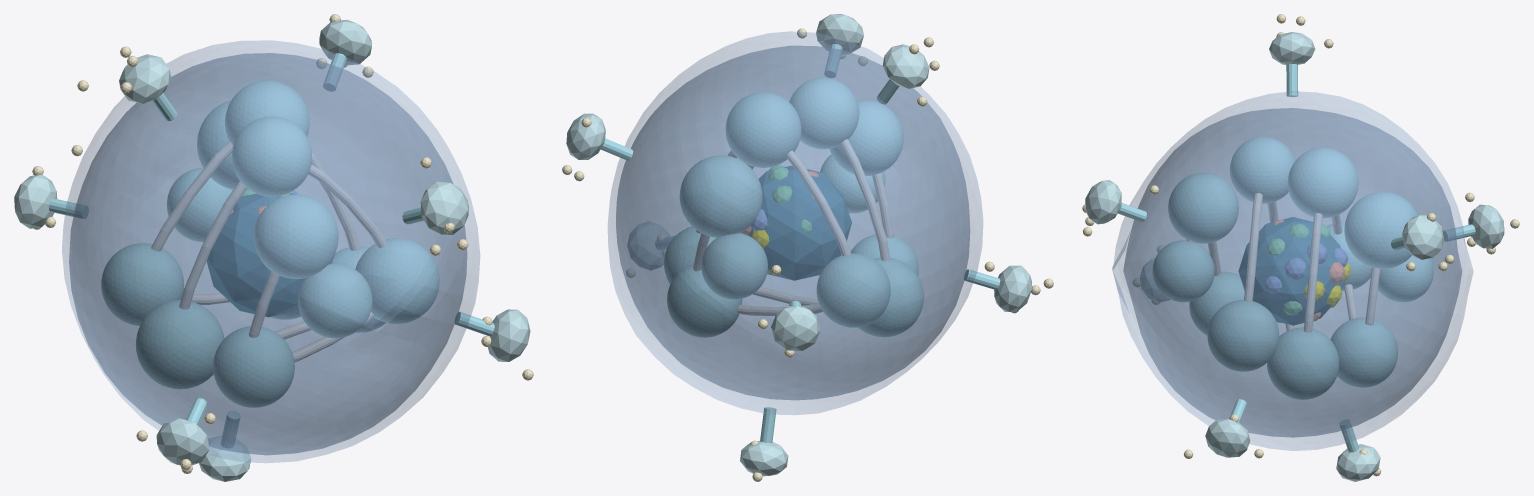
Rendered from virus_virus_ficticio_b_8280297.glb.
3 views of the same model, side by side, from view 1: azimuth 30°, elevation 25°; view 2: azimuth 150°, elevation 25°; view 3: azimuth 270°, elevation 25° (orthographic). The views are drawn at different scales.
Parts seen in each view (by area): view 1: geometry_0, geometry_1, geometry_137, geometry_2, geometry_133, geometry_135, geometry_134, geometry_136, geometry_140, geometry_132, geometry_139, geometry_143 (+9 smaller); view 2: geometry_0, geometry_1, geometry_2, geometry_142, geometry_139, geometry_140, geometry_136, geometry_143, geometry_141, geometry_133, geometry_137, geometry_203 (+9 smaller); view 3: geometry_0, geometry_1, geometry_2, geometry_135, geometry_142, geometry_138, geometry_133, geometry_139, geometry_141, geometry_136, geometry_132, geometry_143 (+9 smaller).
Part boxes in pixels (x1,y1,x2,y2): geometry_0: [62, 40, 479, 462]; geometry_1: [69, 53, 467, 455]; geometry_137: [136, 300, 224, 389]; geometry_2: [206, 193, 334, 317]; geometry_133: [254, 194, 338, 278]; geometry_135: [355, 238, 439, 323]; geometry_134: [213, 326, 294, 407]; geometry_136: [232, 116, 311, 196]; geometry_140: [101, 243, 183, 325]; geometry_132: [298, 263, 372, 338]; geometry_139: [225, 80, 309, 145]; geometry_143: [166, 167, 232, 241]; geometry_0: [608, 31, 983, 414]; geometry_1: [616, 45, 970, 400]; geometry_2: [748, 165, 851, 280]; geometry_142: [679, 155, 762, 237]; geometry_139: [725, 92, 801, 167]; geometry_140: [816, 253, 890, 327]; geometry_136: [789, 77, 859, 149]; geometry_143: [701, 233, 767, 299]; geometry_141: [667, 264, 742, 337]; geometry_133: [829, 100, 903, 175]; geometry_137: [858, 257, 923, 337]; geometry_203: [816, 14, 863, 77]; geometry_0: [1112, 91, 1473, 450]; geometry_1: [1123, 108, 1462, 437]; geometry_2: [1238, 217, 1344, 325]; geometry_135: [1207, 300, 1279, 371]; geometry_142: [1344, 191, 1418, 268]; geometry_138: [1267, 327, 1339, 399]; geometry_133: [1168, 172, 1238, 243]; geometry_139: [1287, 147, 1358, 218]; geometry_141: [1330, 317, 1397, 387]; geometry_136: [1229, 136, 1295, 203]; geometry_132: [1152, 240, 1214, 302]; geometry_143: [1378, 255, 1433, 302].
Bounding box in the file's own units: 11.29 × 12.25 × 11.89.
